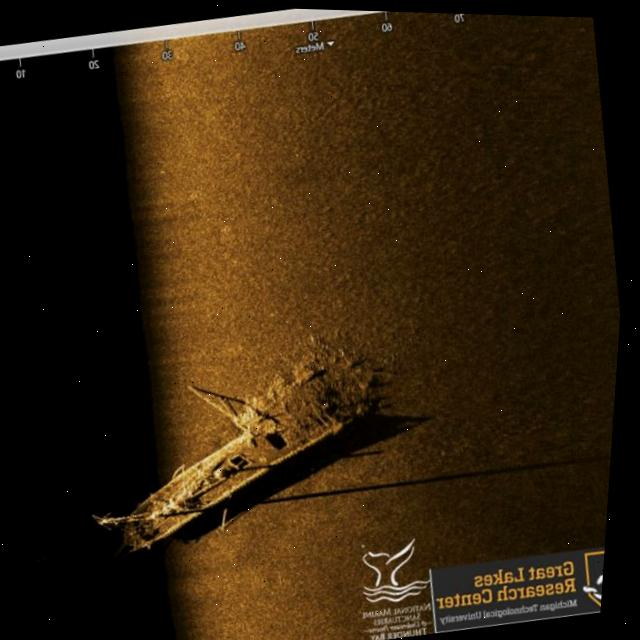shipwreck: (74, 334, 408, 572)
